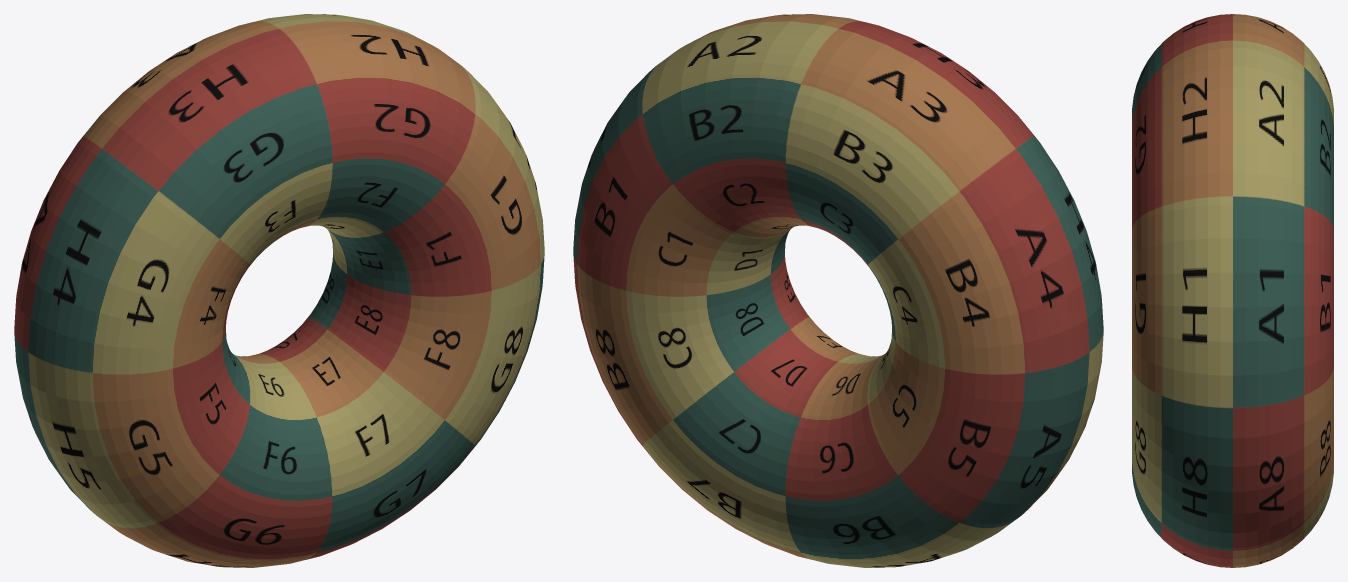
File: texture_torus_R9_r27.glb
3 renders of one model, left to right at view 1: azimuth 30°, elevation 25°; view 2: azimuth 150°, elevation 25°; view 3: azimuth 270°, elevation 25°, orthographic. The views are drawn at different scales.
Parts seen in each view (by area): view 1: world; view 2: world; view 3: world.
Boxes of the visible parts, left/top/right/bottom form: world: left=14, top=14, right=544, bottom=567; world: left=573, top=14, right=1103, bottom=567; world: left=1132, top=14, right=1333, bottom=567.
Size of the model in its own units: 25.2 by 25.15 by 9.18.
Materials: 1 (1 with a texture image).
